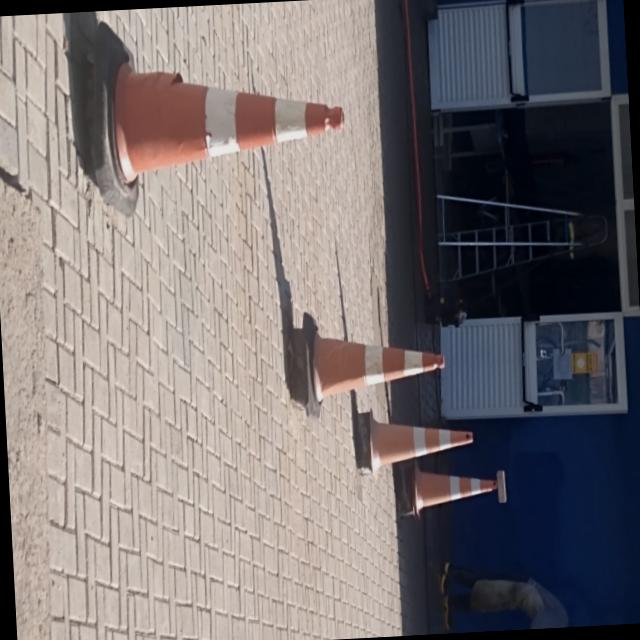cone: (83, 6, 359, 220), (293, 295, 463, 420), (358, 401, 478, 484), (404, 452, 514, 528)
